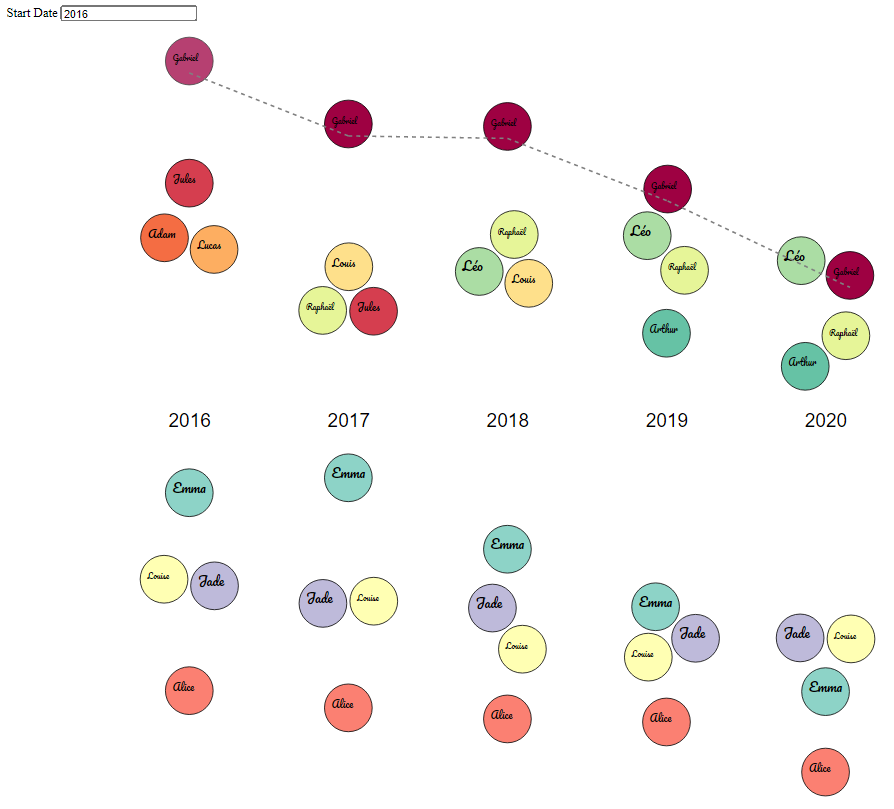

What the dashboard file says about the page in this screenshot:
{"tool":"tableau","page":{"name":"Dashboard","canvas":[1000,800],"ordinal":0},"visuals":[{"type":"filter","title":"Top name by department","param":"[federated.1p20m3106is92o1822rjm0di0x3f].[none:year:qk]","box":[8,8,493,59]},{"type":"legend","title":"Name distribution","param":"[federated.1p20m3106is92o1822rjm0di0x3f].[sum:births:qk]","box":[501,8,491,106]},{"type":"worksheet","title":"Top name by department","mark":"Multipolygon","box":[8,114,493,678]},{"type":"worksheet","title":"Name distribution","mark":"Multipolygon","box":[501,114,491,678]}]}

Visuals, with their boxes on the page's 1000x800 design canvas (x1, y1, x2, y2). These are canvas units, not pixel positions in the 894x809 screenshot, which may show the page scaled, cropped or inside an application window:
"Top name by department" filter: detection(8, 8, 501, 67)
"Name distribution" legend: detection(501, 8, 992, 114)
"Top name by department" worksheet (Multipolygon marks): detection(8, 114, 501, 792)
"Name distribution" worksheet (Multipolygon marks): detection(501, 114, 992, 792)
